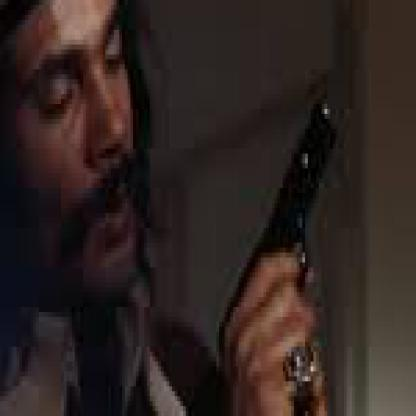gun: (8, 193, 414, 411)
